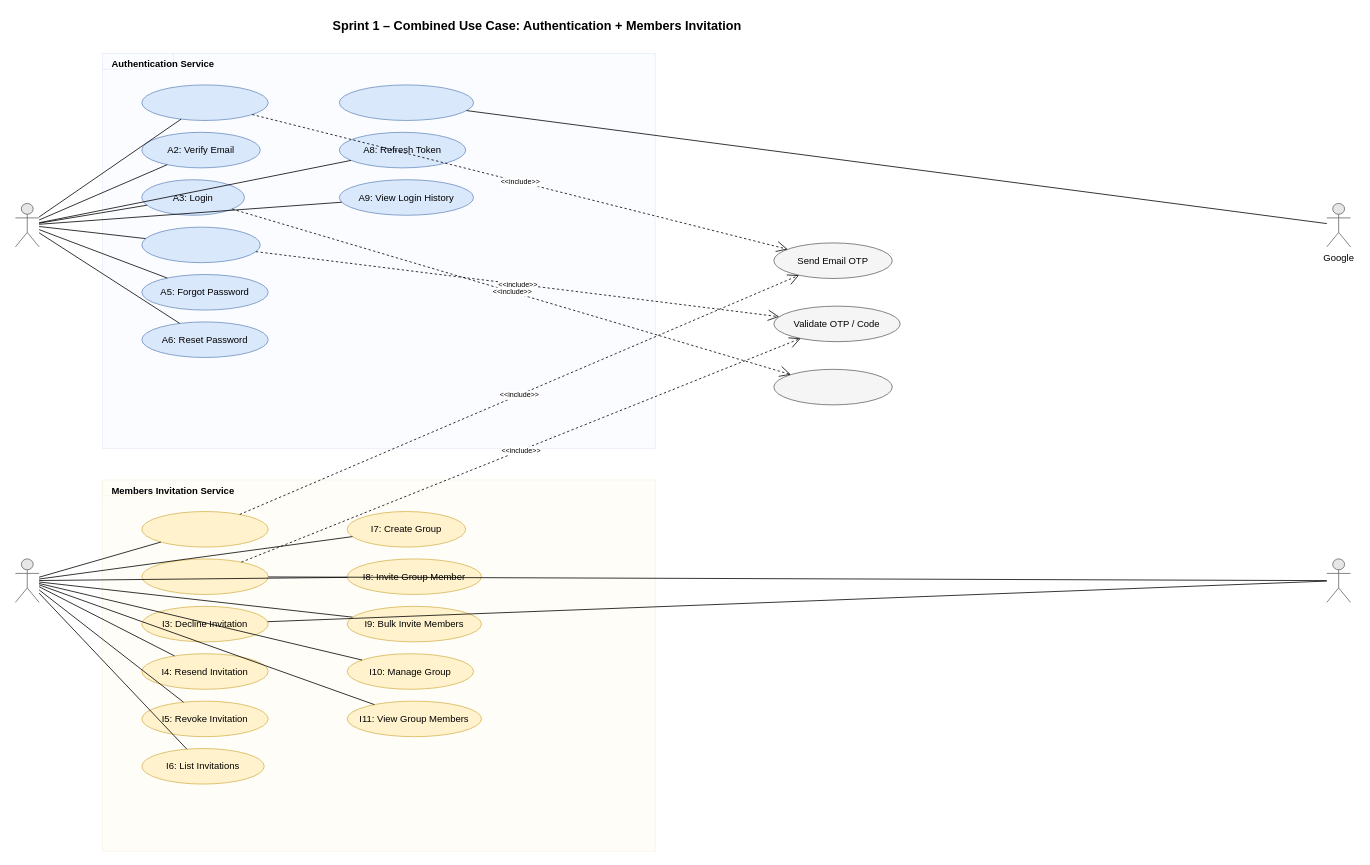
This 1370x865 diagram has some shape labels left out. Here are the shapes that lost their labels. From the top down, the centre of each, then its label:
At (x=204, y=102): "A1: Register Account".
At (x=406, y=102): "A7: Google OAuth Login".
At (x=27, y=225): "User".
At (x=200, y=244): "A4: Confirm 2FA".
At (x=832, y=387): "Generate JWT".
At (x=204, y=529): "I1: Create Invitation".
At (x=27, y=580): "Owner".
At (x=204, y=576): "I2: Accept Invitation".
At (x=1338, y=580): "Invited Member".
